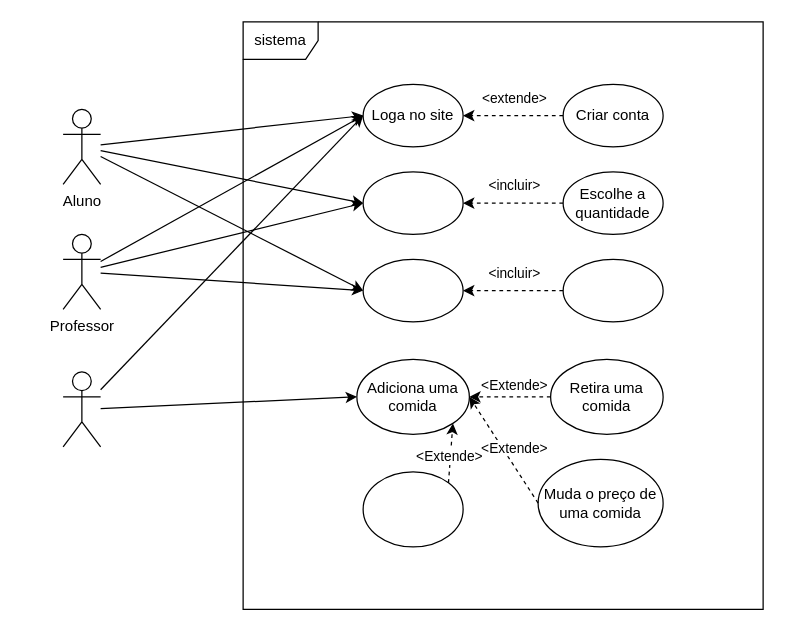
The diagram is 785 pixels wide and 631 high, and some of its shapes have lost their labels. Here are the shapes that lost their labels. From the top down, the centre of each, then its label:
At (x=412, y=202): "Escolhe a comida".
At (x=412, y=290): "Compra a comida".
At (x=612, y=290): "Retira na Cantina".
At (x=81, y=409): "Diretor de Cantina".
At (x=412, y=509): "Atualiza uma comida".
